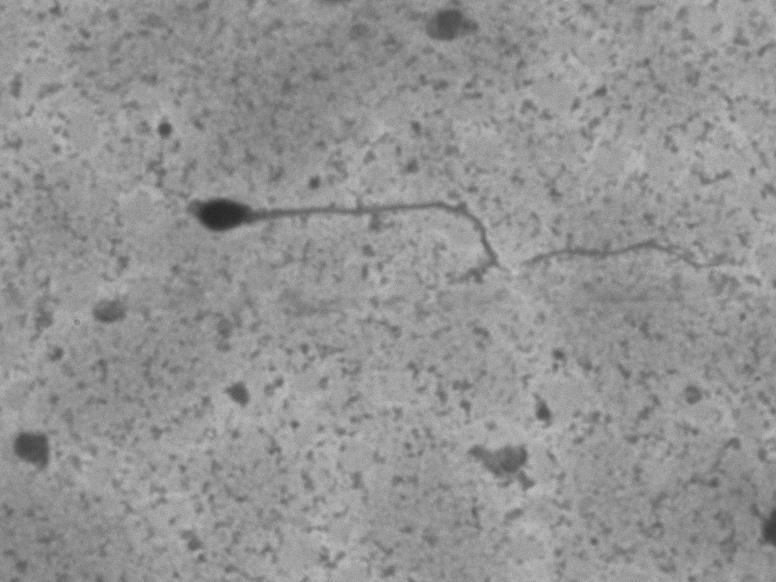Abnormal: (125, 157, 739, 300)
